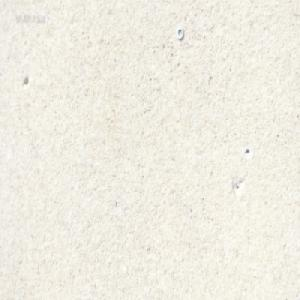Washer: (176, 26, 184, 40)
